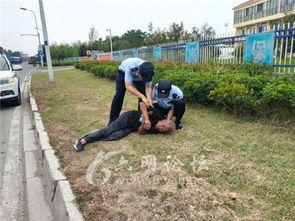bending: (109, 50, 154, 118), (155, 75, 190, 129)
down: (71, 110, 175, 151)
